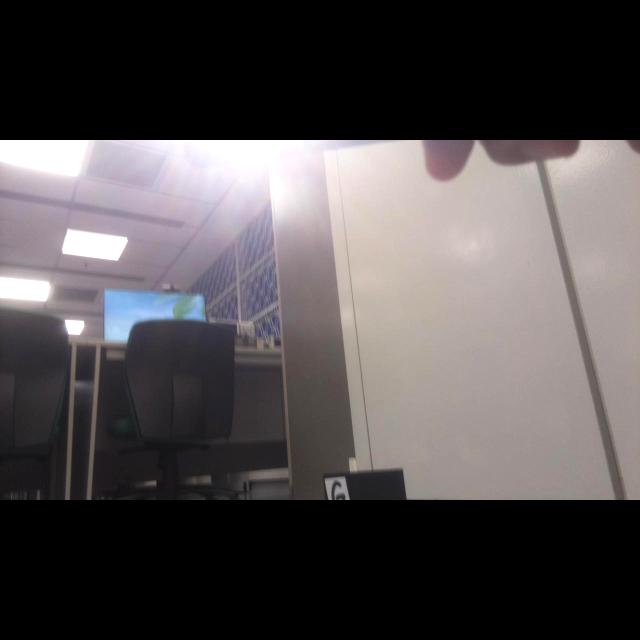G: (331, 480, 342, 500), (336, 493, 345, 500)
